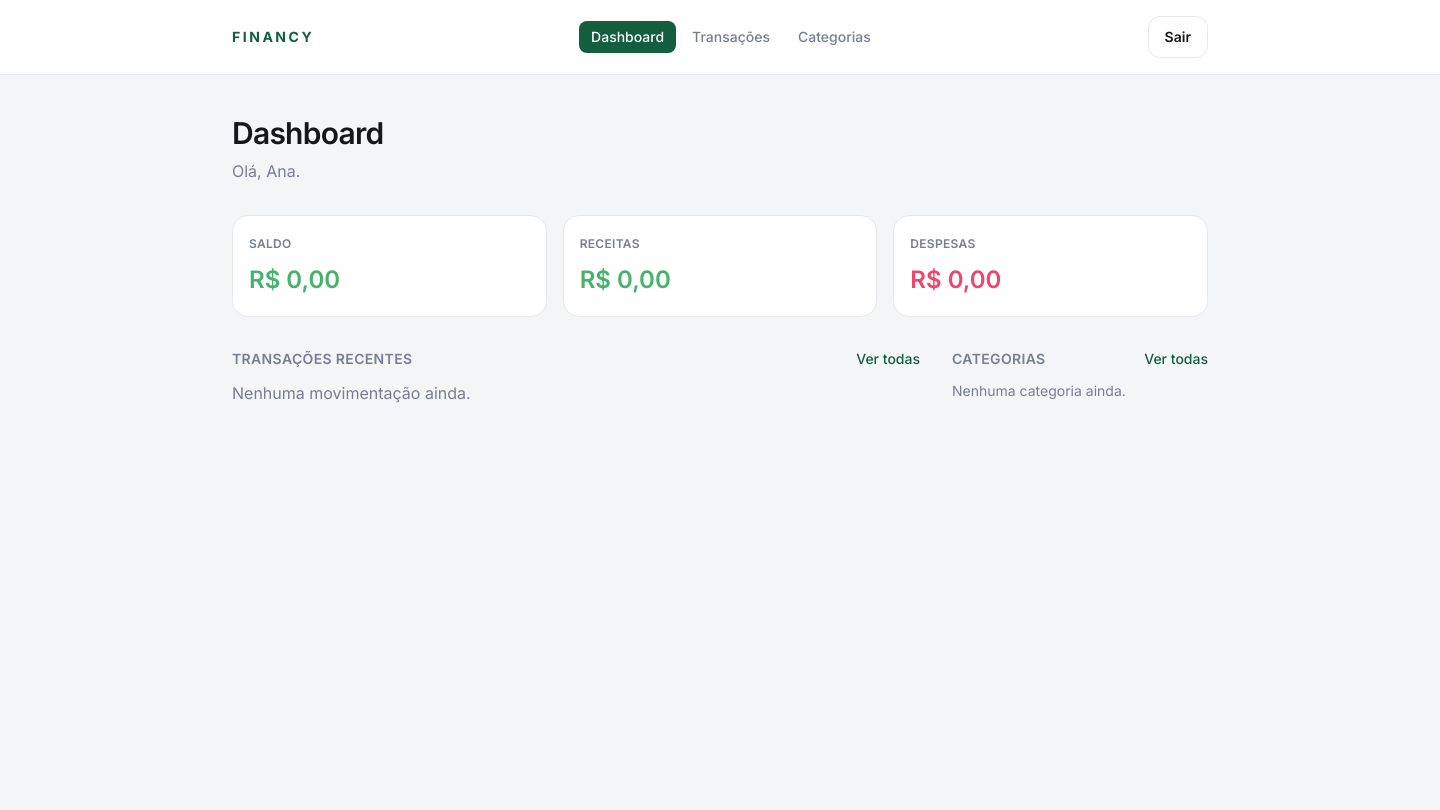
Test: dashboard page › AC-003: logout returns to login
Click the button "Sair" at (1178, 37), box [1148, 16, 1208, 58]
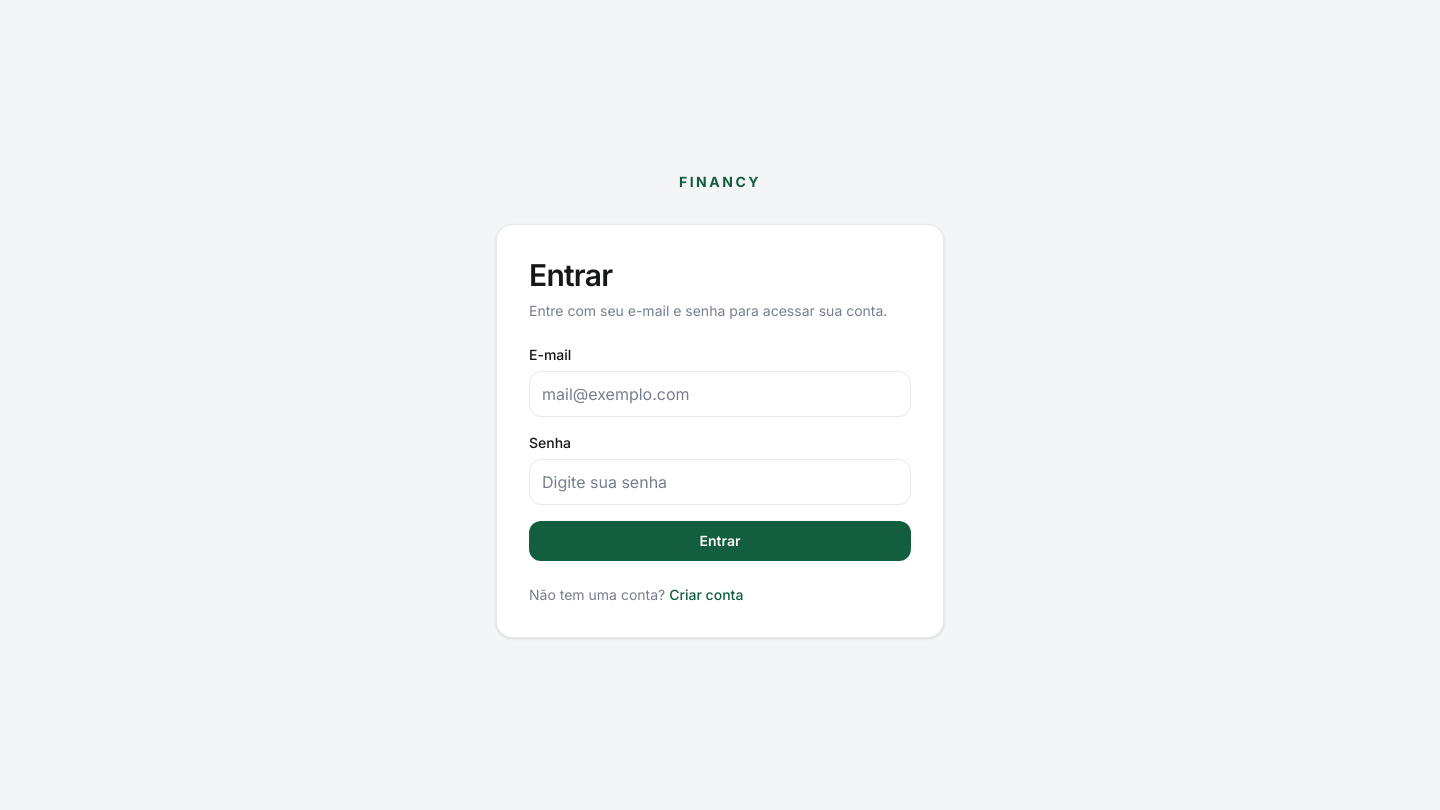
Now the heading "Entrar" is shown, box [529, 257, 612, 293]
